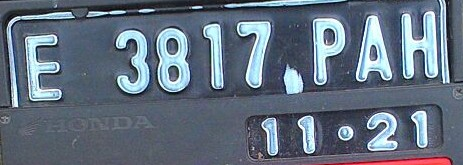plate: (5, 4, 463, 158)
